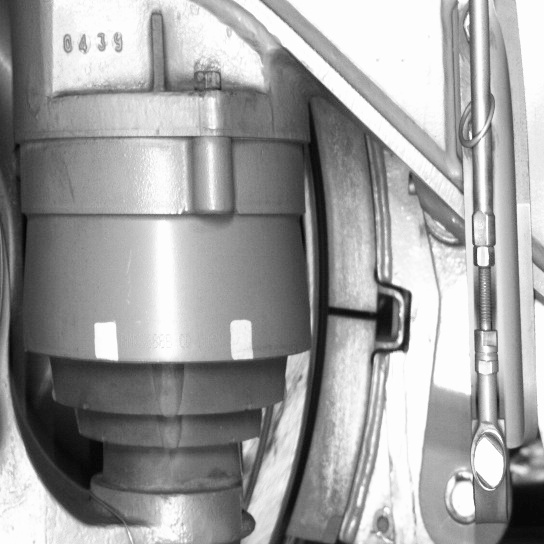KnifeSwitch: (266, 139, 384, 542)
